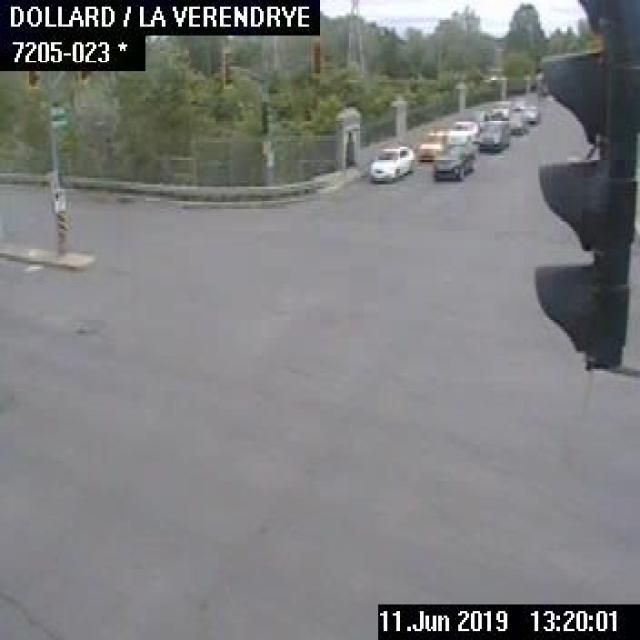vehicle: (367, 141, 415, 182), (431, 143, 476, 180), (474, 116, 508, 151), (416, 128, 446, 160), (447, 118, 477, 144), (501, 112, 527, 136), (518, 104, 541, 125), (490, 99, 514, 117), (535, 71, 549, 93)
